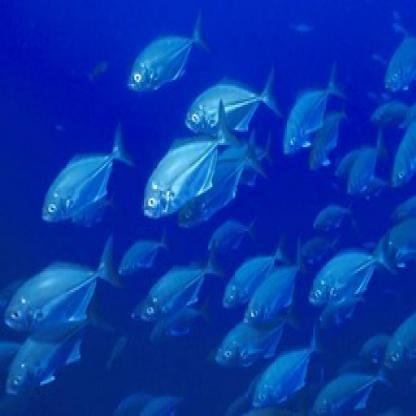Bio: (1, 229, 124, 336), (140, 94, 246, 218), (36, 121, 143, 219), (125, 0, 217, 94), (304, 220, 395, 310), (138, 235, 229, 324), (244, 318, 326, 414), (242, 235, 314, 326)
